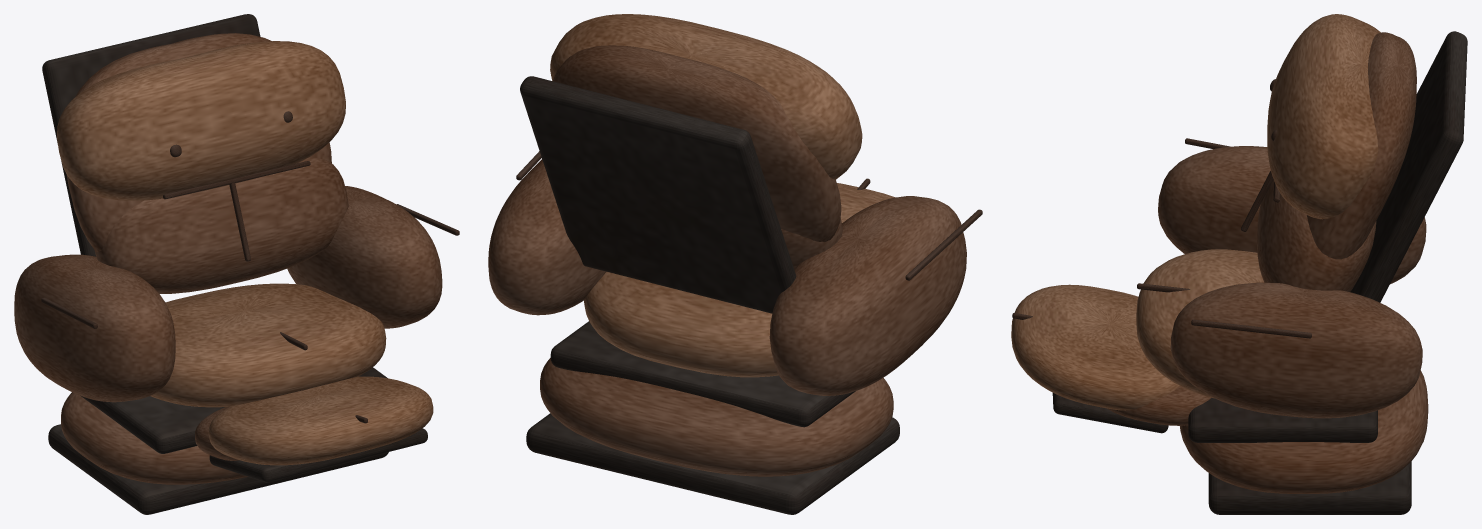
File: refined-deterministic-recliner.glb
3 renders of one model, left to right at view 1: azimuth 30°, elevation 25°; view 2: azimuth 150°, elevation 25°; view 3: azimuth 270°, elevation 25°, orthographic. The views are drawn at different scales.
Visible parts, largest first — view 1: back_cushion_upper, seat_cushion, back_cushion_lower, left_arm, footrest_cushion, right_arm, base_skirt, back_frame, back_continuity_mass, base, seat_frame, footrest_frame (+3 smaller); view 2: back_frame, left_arm, base_skirt, back_continuity_mass, back_cushion_upper, seat_cushion, right_arm, base, seat_frame, back_cushion_lower, footrest_cushion, left_arm_piping; view 3: right_arm, back_cushion_upper, footrest_cushion, base_skirt, back_frame, left_arm, back_continuity_mass, seat_cushion, back_cushion_lower, seat_frame, base, footrest_continuity_shroud (+2 smaller).
Boxes of the visible parts, x1,y1,x2,y2 form: back_cushion_upper: (57,41,345,200); seat_cushion: (150,283,386,407); back_cushion_lower: (94,157,348,293); left_arm: (14,254,175,402); footrest_cushion: (208,376,433,465); right_arm: (287,186,442,328); base_skirt: (61,392,247,484); back_frame: (42,14,260,256); back_continuity_mass: (66,33,331,252); base: (48,424,388,514); seat_frame: (80,367,387,453); footrest_frame: (209,428,427,482); back_frame: (520,76,796,313); left_arm: (769,196,966,395); base_skirt: (540,358,893,476); back_continuity_mass: (553,45,841,241); back_cushion_upper: (550,14,862,179); seat_cushion: (584,272,778,377); right_arm: (488,159,606,315); base: (526,413,899,514); seat_frame: (550,321,855,427); back_cushion_lower: (781,219,842,269); footrest_cushion: (837,183,895,222); left_arm_piping: (905,209,982,280); right_arm: (1170,282,1422,418); back_cushion_upper: (1267,14,1380,219); footrest_cushion: (1011,284,1179,410); base_skirt: (1180,370,1428,493); back_frame: (1350,31,1467,302); left_arm: (1158,146,1426,284); back_continuity_mass: (1306,32,1416,259); seat_cushion: (1136,249,1263,398); back_cushion_lower: (1257,179,1376,291); seat_frame: (1188,398,1377,442); base: (1208,461,1411,514); footrest_continuity_shroud: (1107,386,1211,425).
Bounding box in the file's own units: 1.94 × 1.95 × 2.02.
4 materials, 4 textured.
